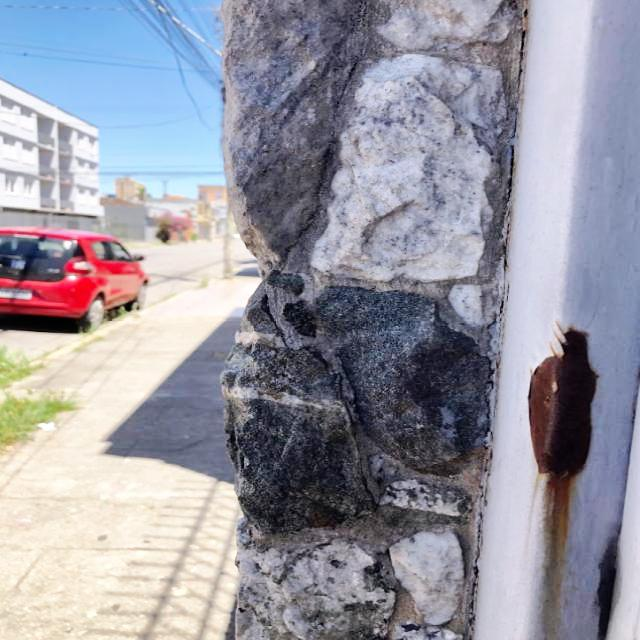Corrosion: (525, 324, 601, 486)
